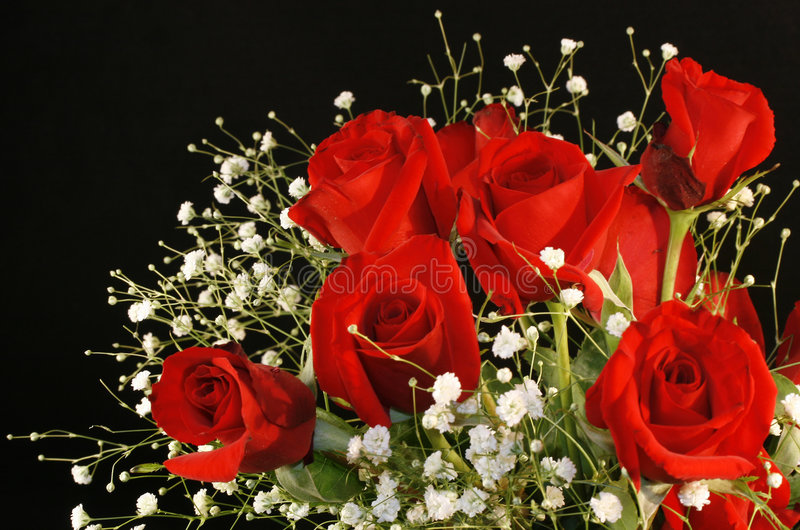RedRose: (624, 307, 774, 494), (324, 235, 482, 412), (310, 100, 437, 274), (476, 136, 602, 297), (651, 73, 763, 225), (163, 355, 304, 468)
